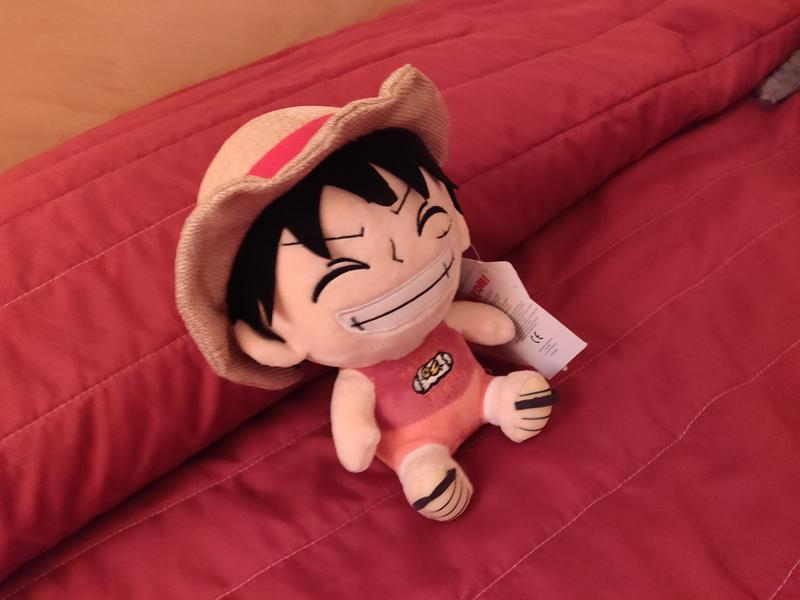rufy: (167, 52, 590, 528)
